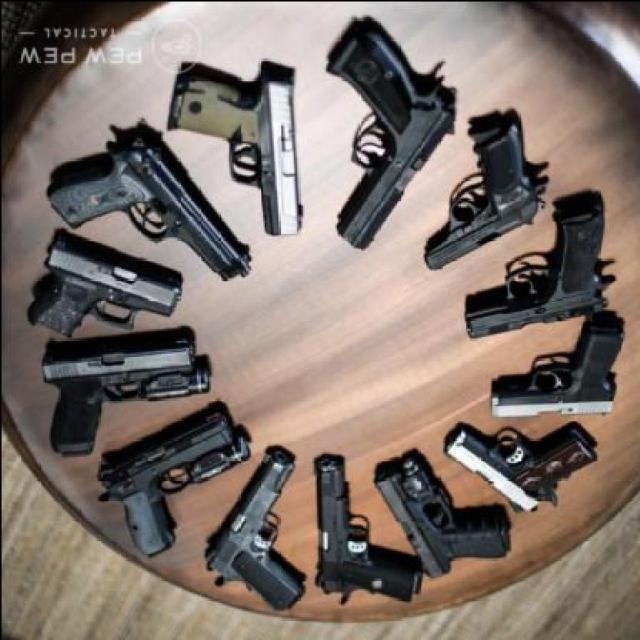weapon: (45, 117, 251, 280), (325, 14, 456, 250), (95, 398, 251, 556), (166, 56, 303, 235), (463, 188, 614, 339), (40, 325, 211, 456), (423, 106, 549, 269), (372, 446, 510, 578), (26, 226, 182, 337), (203, 443, 306, 609), (312, 451, 423, 605), (441, 419, 597, 513)
